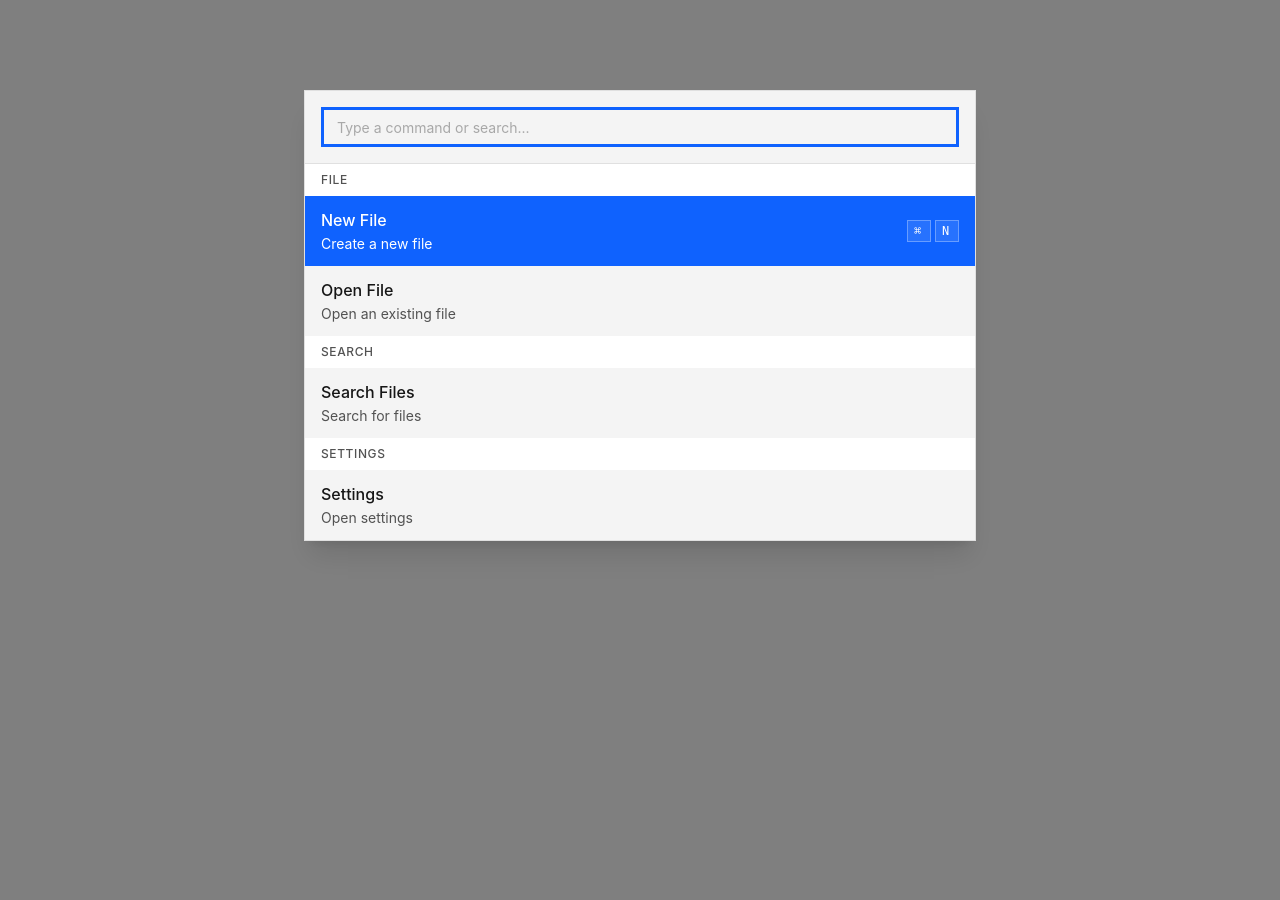
it: CommandPalette › Search › should filter items based on label
The image size is (1280, 900).
In the field with placeholder "Type a command or search...": coordinates (640, 127) [321, 107, 959, 147], type "search"
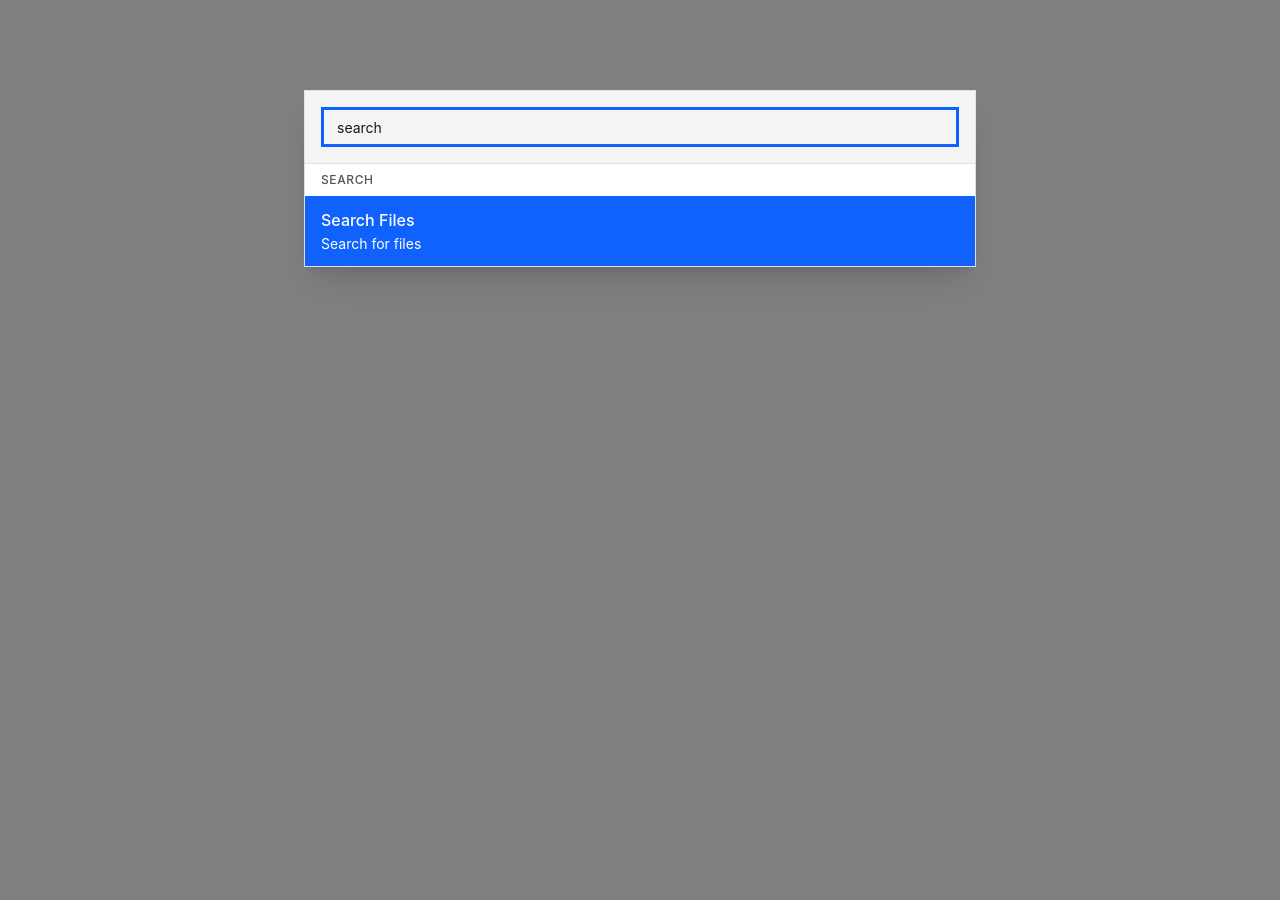
Expected: the text "Search Files" is shown, [321, 208, 414, 232]
Expected: the option "New File" is gone
